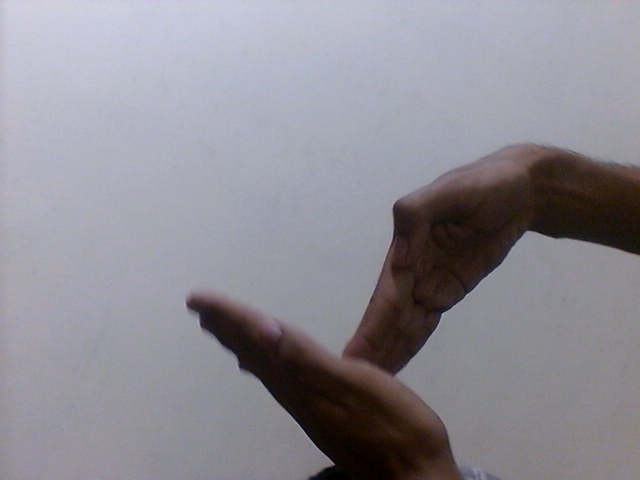hand: (184, 290, 469, 478), (336, 139, 549, 380)
